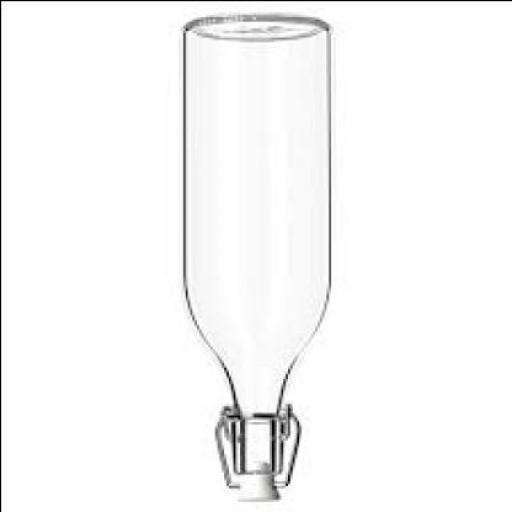glass: (178, 18, 325, 478)
plastic: (234, 462, 280, 504)
